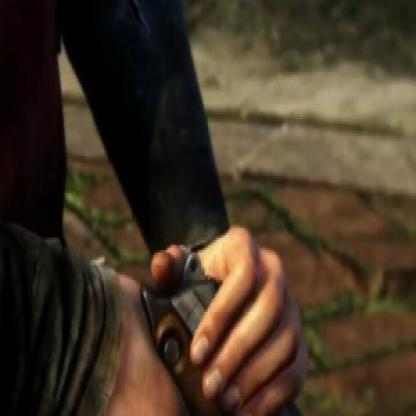gun: (135, 238, 409, 414)
